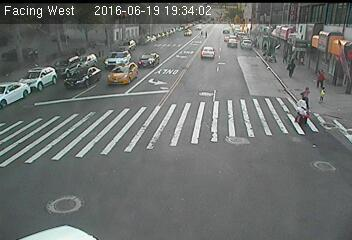neg: (110, 26, 125, 46), (62, 30, 76, 48), (35, 25, 48, 42)
pos: (292, 96, 312, 123), (312, 63, 332, 90), (282, 56, 302, 82), (316, 85, 331, 105), (299, 84, 312, 102)
